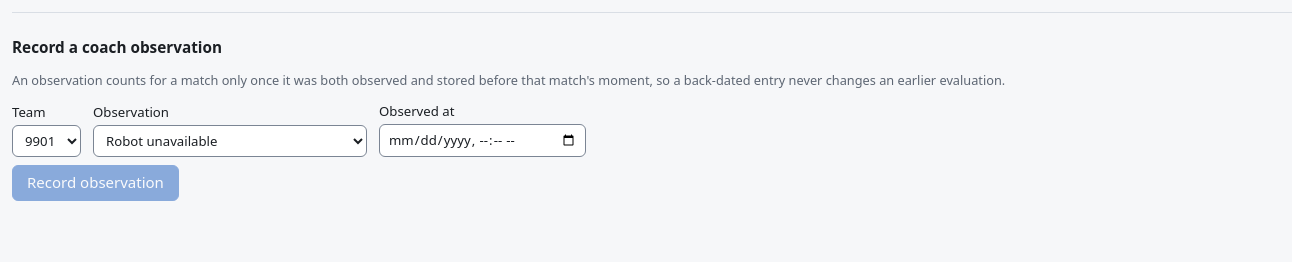
Test case: RecordObservation › sends the local moment as an ISO instant, with the token, and no component for a robot observation
Select "9902" in the dropdown labelled "Team". click: (46, 141)
box: [12, 125, 81, 157]
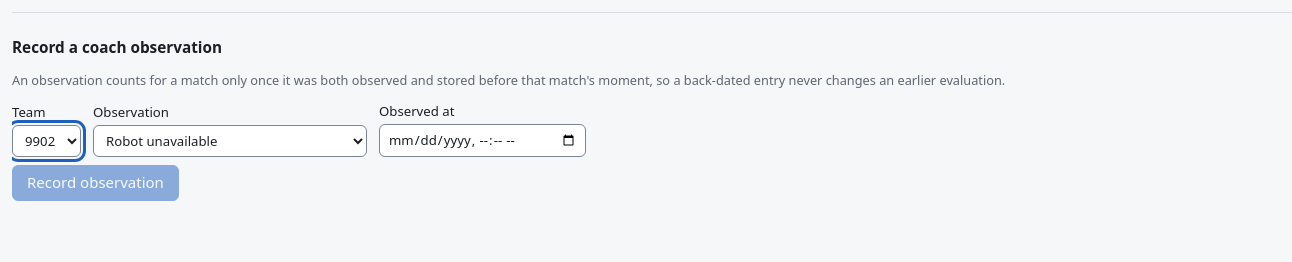
Expected: the button "Record observation" is disabled, [12, 165, 179, 201]
Type "2099-03-01T09:30" into the field labelled "Observed at". click: (483, 141)
box: [379, 124, 586, 157]
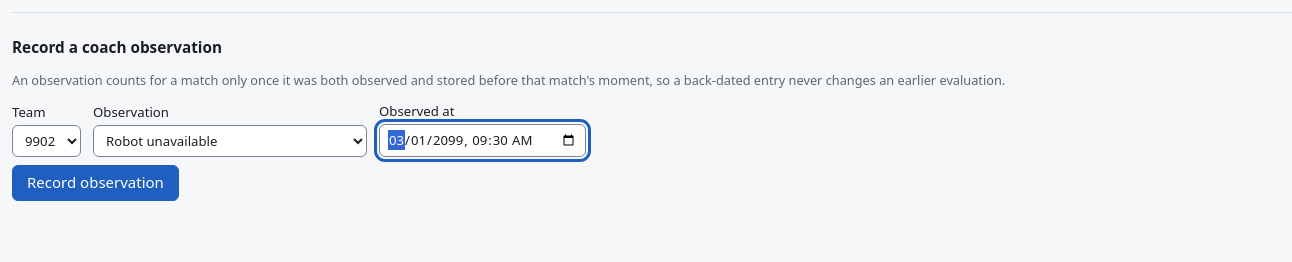
Click the button "Record observation". click: (95, 183)
box: [12, 165, 179, 201]
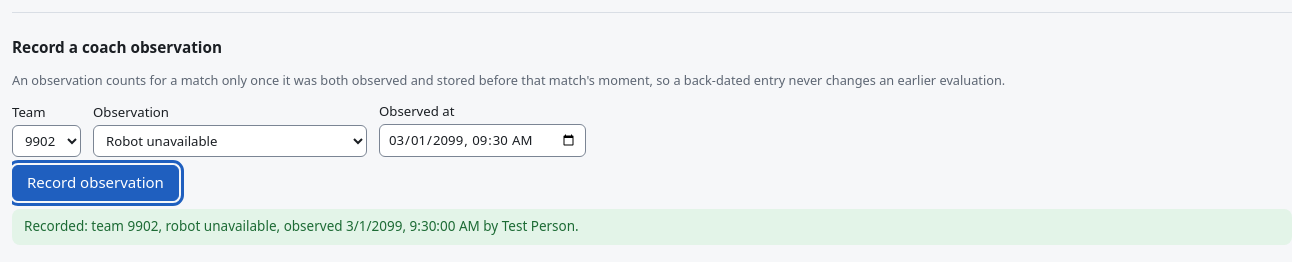
Expected: the text "Recorded: team 9902" is shown, [12, 209, 1291, 245]
